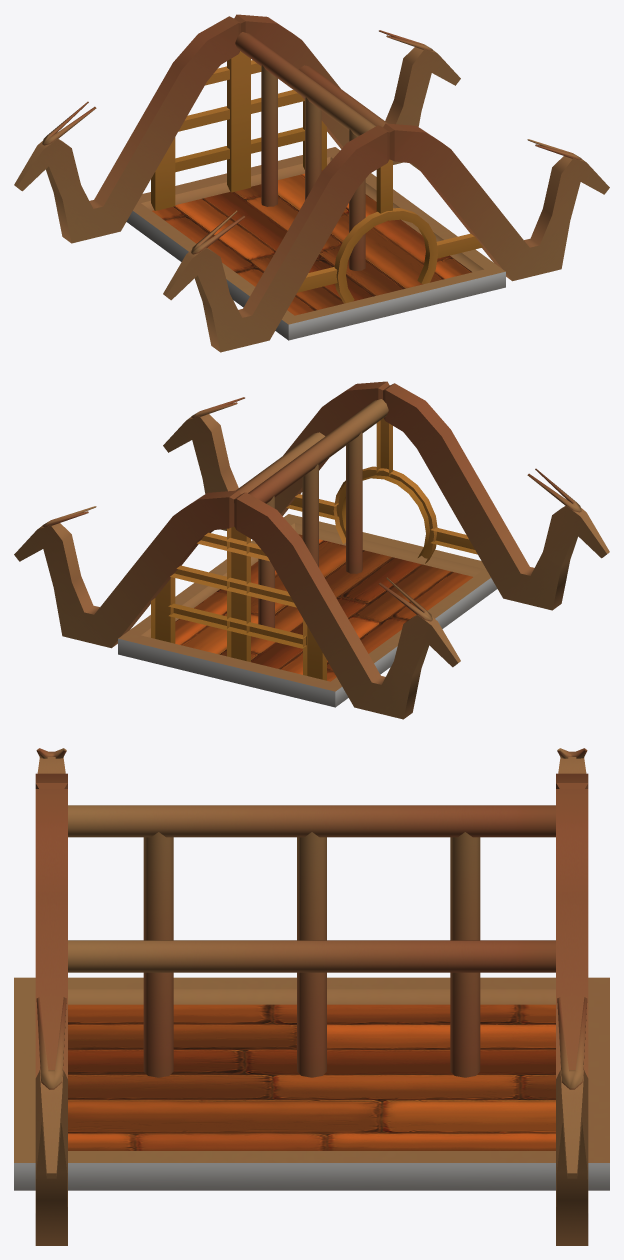
The model's file is VikingHouse_04_L.fbx.
3 views of the same model, one above another, from view 1: azimuth 30°, elevation 25°; view 2: azimuth 150°, elevation 25°; view 3: azimuth 270°, elevation 25° (orthographic). The views are drawn at different scales.
Parts seen in each view (by area): view 1: VikingHouse_04_L; view 2: VikingHouse_04_L; view 3: VikingHouse_04_L.
Boxes of the visible parts, box(x1,y1,x2,y2) form: VikingHouse_04_L: box(14, 14, 609, 352); VikingHouse_04_L: box(14, 381, 609, 719); VikingHouse_04_L: box(14, 748, 609, 1245).
Bounding box in the file's own units: 585 × 226 × 389.
2 materials, 2 textured.
